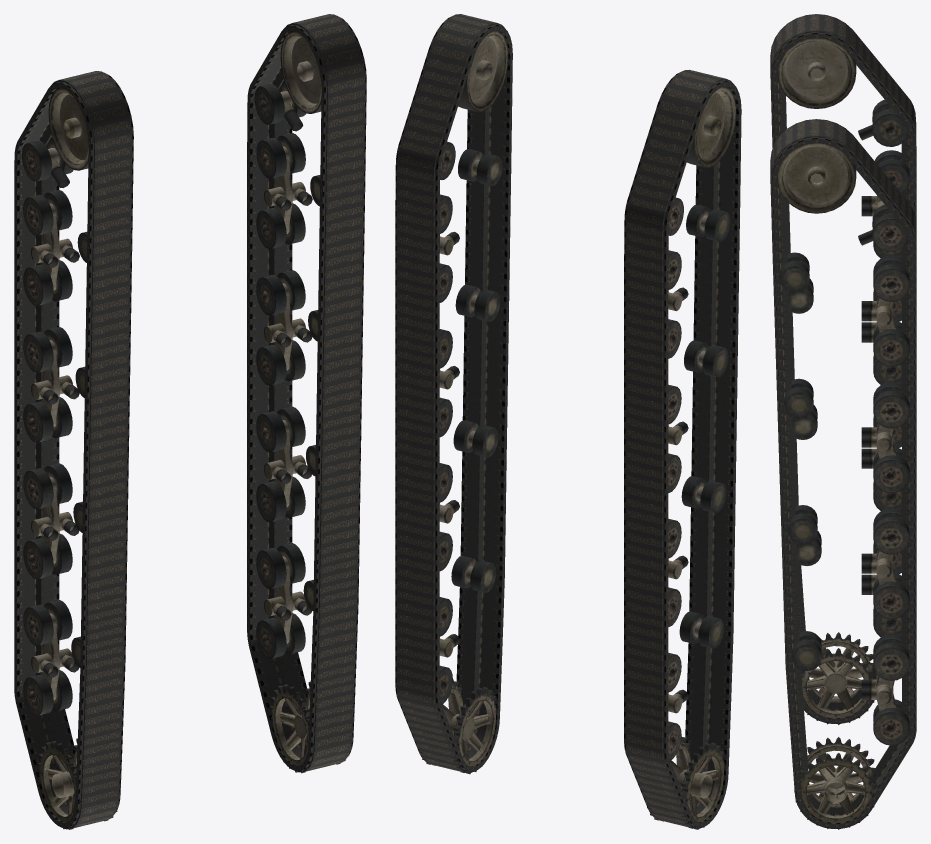
The model's file is Chassis.glb.
The picture shows the model from 3 angles, left to right: view 1: azimuth 30°, elevation 25°; view 2: azimuth 150°, elevation 25°; view 3: azimuth 270°, elevation 25°; orthographic projection. The views are drawn at different scales.
Visible parts, largest first — view 1: set_0_group_0, set_1_group_0, set_3_group_0, set_2_group_0; view 2: set_0_group_0, set_1_group_0, set_3_group_0, set_2_group_0; view 3: set_3_group_0, set_1_group_0, set_2_group_0, set_0_group_0.
Boxes of the visible parts, box(x1,y1,x2,y2) form: set_0_group_0: box(14, 71, 133, 829); set_1_group_0: box(247, 14, 366, 772); set_3_group_0: box(254, 31, 352, 773); set_2_group_0: box(22, 88, 120, 829); set_0_group_0: box(624, 69, 741, 828); set_1_group_0: box(395, 14, 512, 773); set_3_group_0: box(419, 30, 508, 774); set_2_group_0: box(647, 86, 736, 829); set_3_group_0: box(777, 143, 909, 829); set_1_group_0: box(770, 119, 916, 828); set_2_group_0: box(777, 38, 909, 724); set_0_group_0: box(770, 14, 916, 723).
Bounding box in the file's own units: 2.6 × 6.76 × 1.29.
4 materials, 4 textured.
